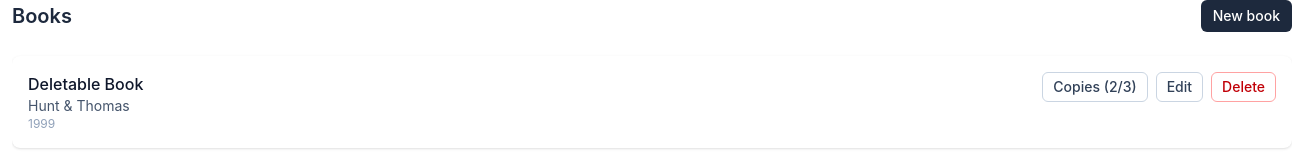
BooksList — role-gated management › deletes a book after inline confirmation and refreshes the list
The image size is (1292, 166).
What coordinates should you click on to do the following:
click the button "Delete"
I would click on:
 (1244, 87)
Its box is [1211,72,1276,102].
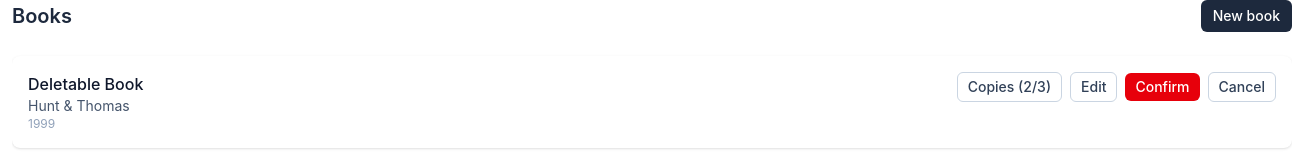
What coordinates should you click on to do the following:
click the button "Confirm"
I would click on:
 (1163, 87)
Its box is [1126,73,1200,101].
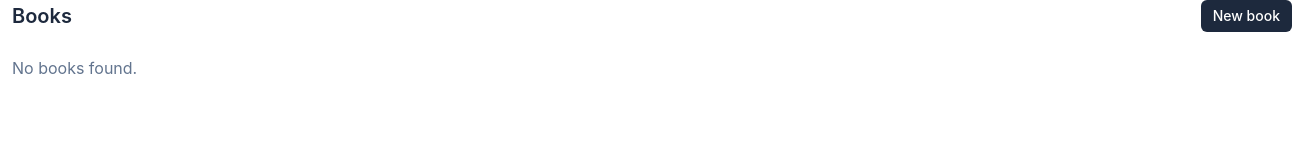
expect the text "No books found." is shown: met, box [12,58,137,78]
expect the text "Deletable Book" is gone: met
